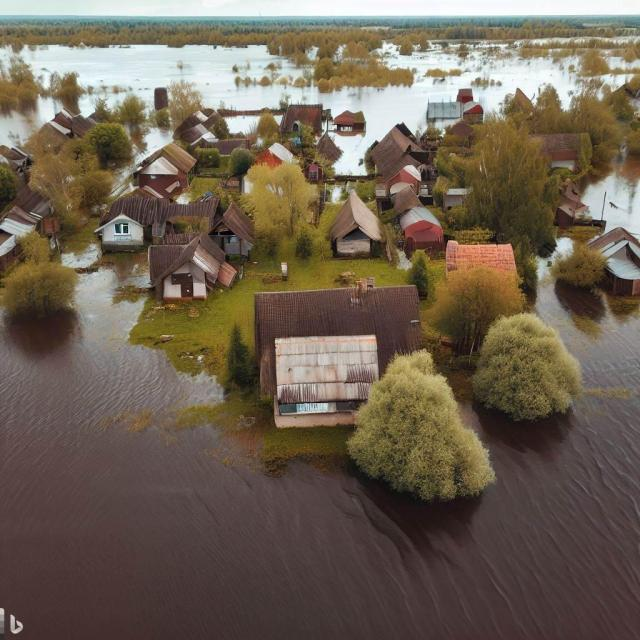flood: (0, 254, 640, 640), (0, 40, 640, 173), (584, 158, 640, 233), (226, 114, 258, 133)
house: (253, 284, 426, 405), (269, 332, 379, 419), (150, 233, 217, 303), (328, 193, 383, 261), (592, 227, 640, 304), (133, 143, 198, 199), (366, 125, 422, 183), (448, 238, 518, 280), (165, 188, 216, 240), (399, 203, 445, 260), (530, 130, 592, 170), (94, 215, 148, 251), (424, 89, 462, 129), (285, 100, 317, 138), (331, 110, 367, 138), (202, 136, 250, 153)
